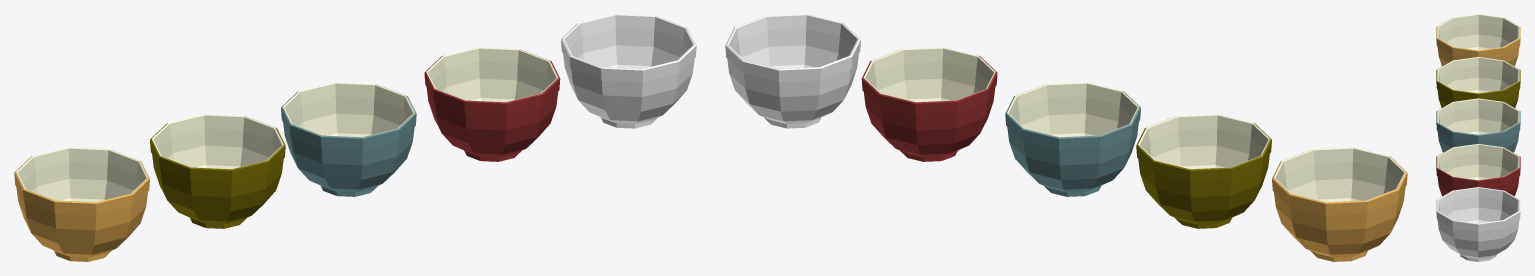
The picture shows the model from 3 angles, left to right: view 1: azimuth 30°, elevation 25°; view 2: azimuth 150°, elevation 25°; view 3: azimuth 270°, elevation 25°; orthographic projection. The views are drawn at different scales.
Parts seen in each view (by area): view 1: Node; view 2: Node; view 3: Node.
Boxes of the visible parts, x1=… form: Node: x1=14, y1=14, x2=696, y2=261; Node: x1=725, y1=14, x2=1407, y2=261; Node: x1=1436, y1=14, x2=1520, y2=261.
Size of the model in its own units: 12.91 by 1.39 by 2.18.
